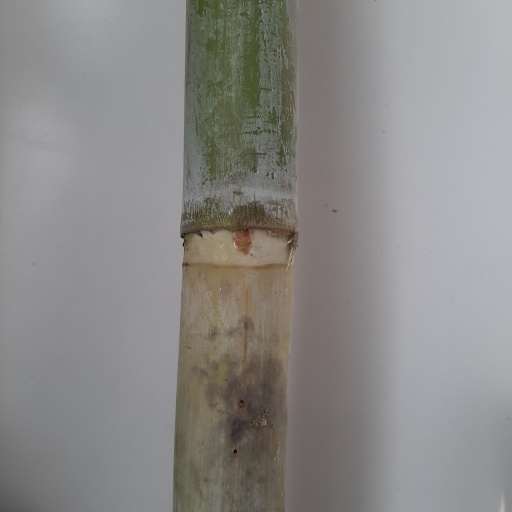Damage_Bud: (232, 228, 253, 258)
